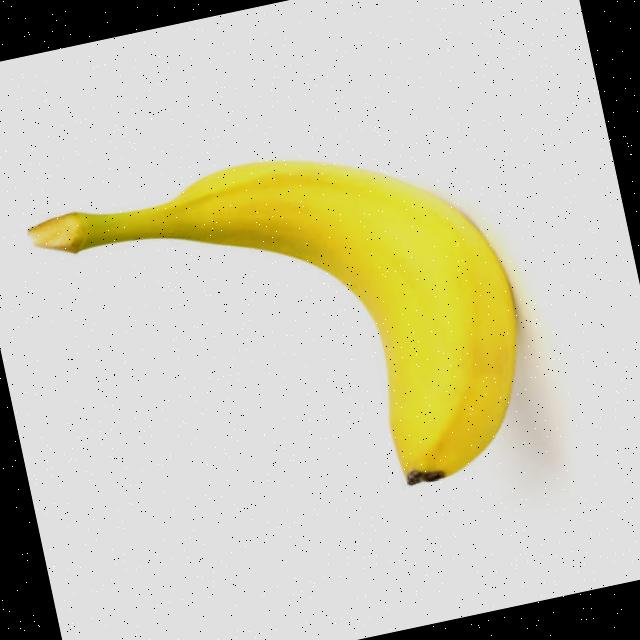Ripe: (62, 106, 548, 546)
